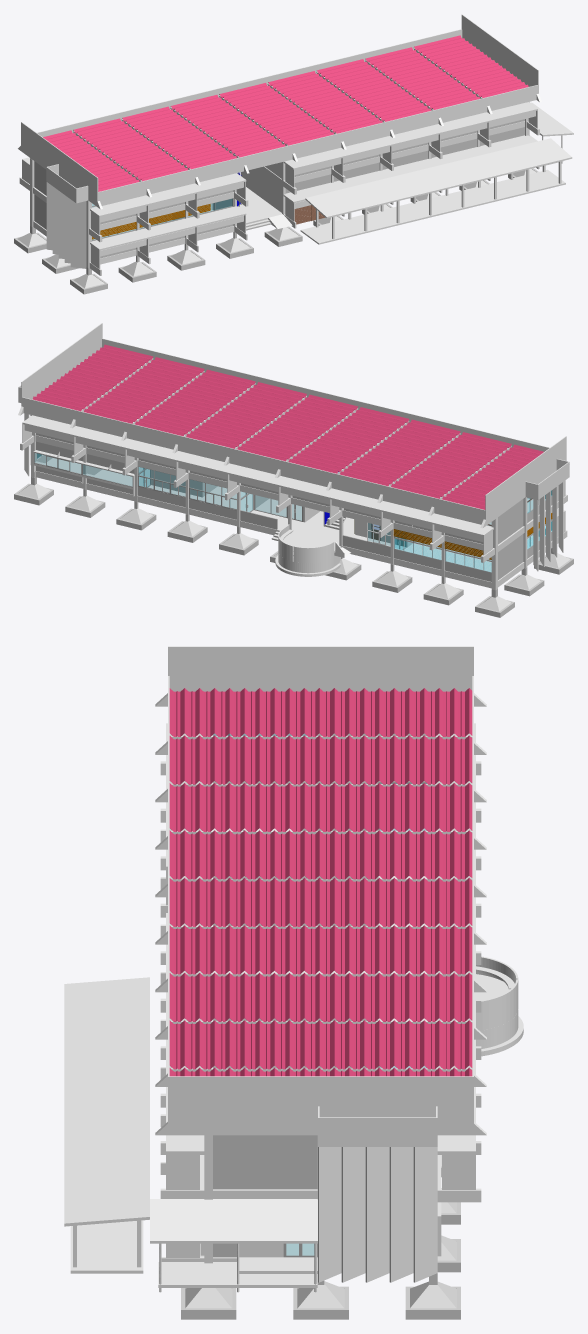
The picture shows the model from 3 angles, top to bottom: view 1: azimuth 30°, elevation 25°; view 2: azimuth 150°, elevation 25°; view 3: azimuth 270°, elevation 25°; orthographic projection. The views are drawn at different scales.
Parts seen in each view (by area): view 1: EN106RF, EN10601, EN10602; view 2: EN106RF, EN10601, EN10602; view 3: EN106RF, EN10601, EN10602.
Boxes of the visible parts, x1,y1,x2,y2 form: EN106RF: (18, 14, 573, 268); EN10601: (14, 121, 565, 294); EN10602: (19, 61, 539, 242); EN106RF: (18, 323, 569, 571); EN10601: (14, 435, 573, 617); EN10602: (22, 374, 567, 562); EN106RF: (64, 646, 486, 1282); EN10601: (70, 761, 523, 1319); EN10602: (160, 723, 481, 1191).
Bounding box in the file's own units: 51.43 × 11.81 × 21.14.
